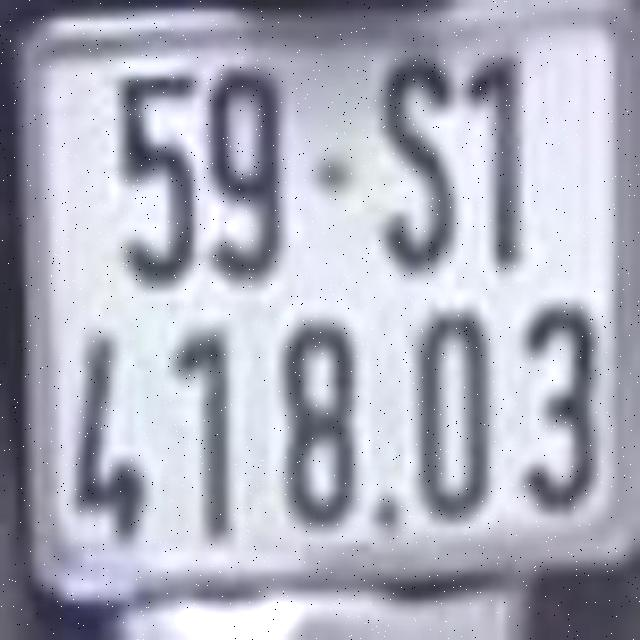0: (414, 301, 493, 521)
1: (466, 47, 538, 271), (174, 324, 239, 540)
3: (520, 295, 599, 515)
4: (70, 330, 150, 547)
5: (116, 68, 200, 287)
8: (281, 314, 359, 530)
9: (207, 64, 283, 285)
S: (377, 49, 459, 274)
